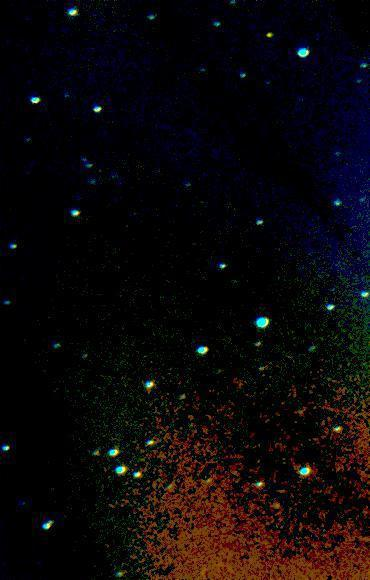star: (253, 20, 283, 50)
